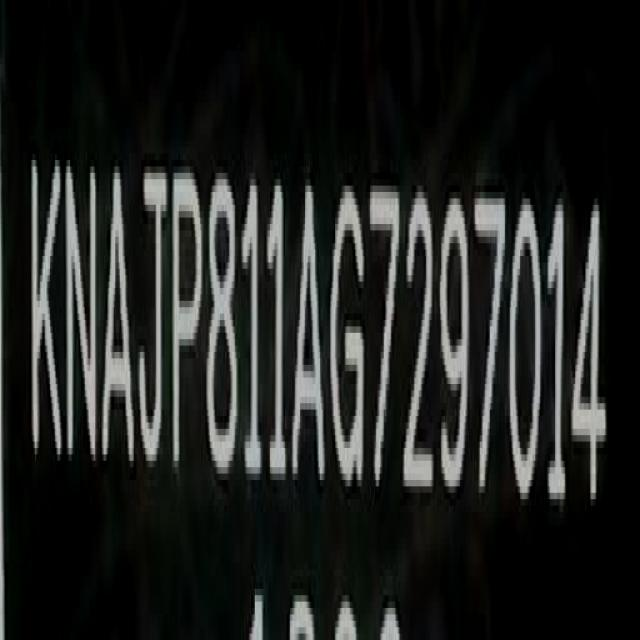0: (511, 190, 545, 510)
1: (242, 168, 263, 490), (268, 170, 288, 487), (548, 192, 566, 515)
2: (406, 189, 438, 505)
4: (572, 194, 608, 514)
7: (475, 182, 506, 511), (372, 178, 402, 500)
8: (209, 167, 239, 490)
9: (439, 192, 470, 502)
A: (291, 172, 328, 488), (102, 157, 136, 479)
G: (330, 185, 368, 506)
J: (138, 161, 169, 468)
K: (32, 147, 64, 480)
N: (64, 156, 99, 471)
P: (172, 164, 204, 468)
